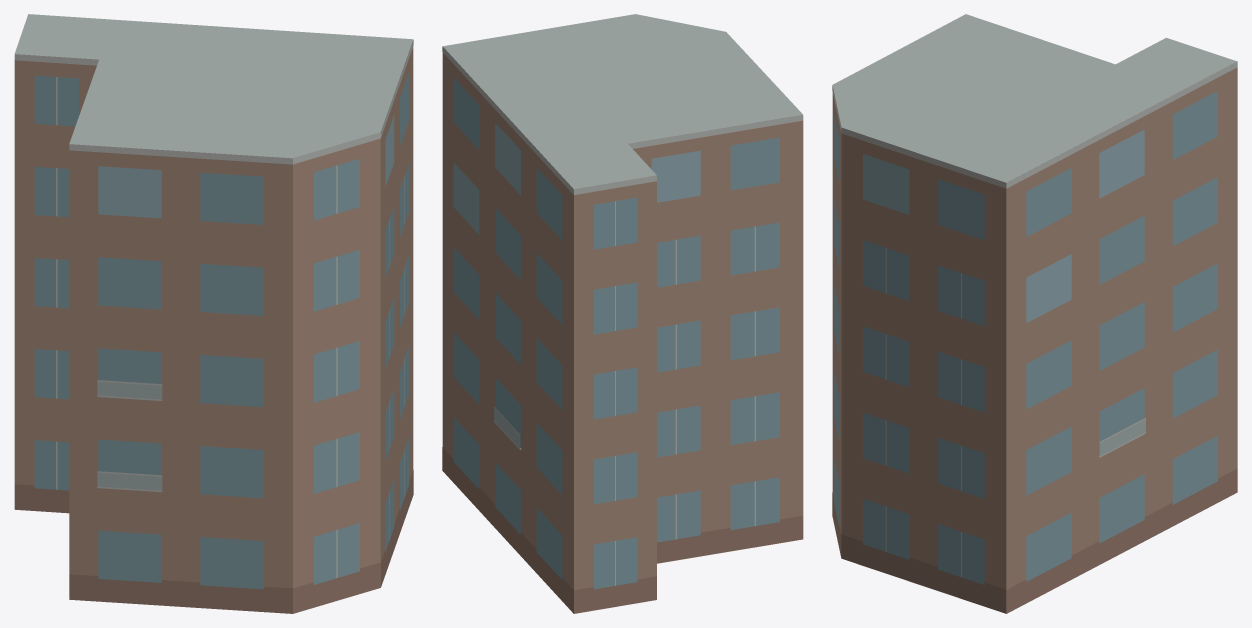
Rendered from survey-upis-32884725.glb.
3 renders of one model, left to right at view 1: azimuth 30°, elevation 25°; view 2: azimuth 150°, elevation 25°; view 3: azimuth 270°, elevation 25°, orthographic. The views are drawn at different scales.
Visible parts, largest first — view 1: survey-upis-32884725.tmp; view 2: survey-upis-32884725.tmp; view 3: survey-upis-32884725.tmp.
Part boxes in pixels (left/top/right/bottom): survey-upis-32884725.tmp: left=14, top=14, right=413, bottom=613; survey-upis-32884725.tmp: left=442, top=14, right=803, bottom=613; survey-upis-32884725.tmp: left=832, top=14, right=1237, bottom=613.
Size of the model in its own units: 14.96 by 17.8 by 15.17.
